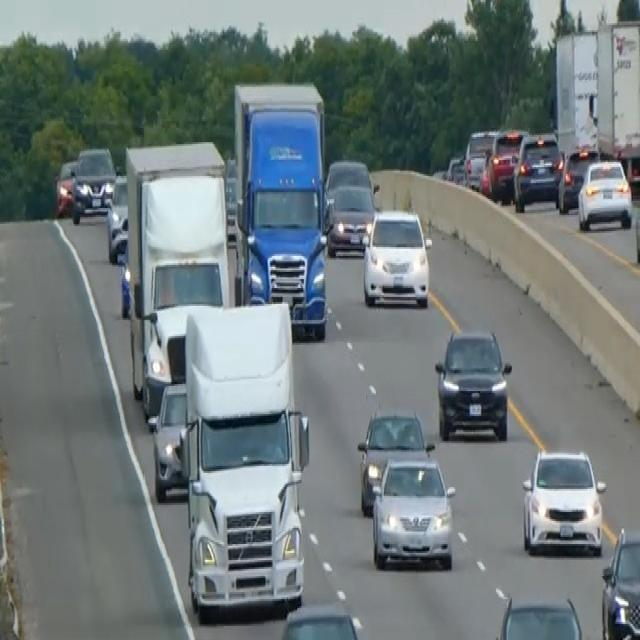car: (371, 452, 455, 570), (520, 444, 606, 554), (434, 325, 512, 441), (356, 407, 431, 514), (361, 206, 431, 308), (150, 379, 188, 501), (492, 592, 584, 638), (577, 157, 633, 231), (513, 130, 563, 212), (326, 181, 376, 256), (70, 144, 116, 222), (483, 126, 526, 203), (275, 601, 362, 638), (323, 156, 373, 217), (557, 142, 599, 214), (105, 173, 128, 263), (463, 128, 496, 190), (54, 158, 77, 217), (444, 153, 465, 185)
lorry: (179, 298, 311, 620), (232, 78, 330, 340)
